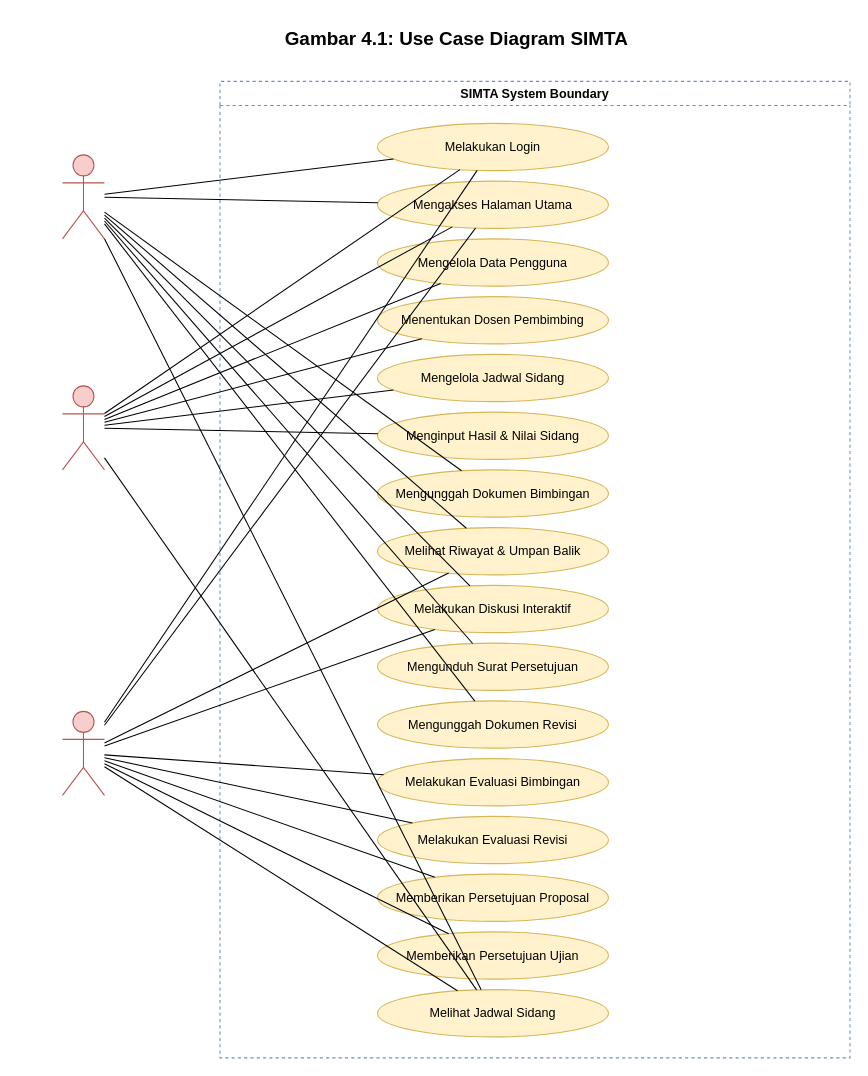
Image size: 868x1076. Some labels were removed from this diagram. The shapes that lost their labels are listed below. From the top down, each one's centre as x and y in pixels, then its label:
pixel 82 196: Mahasiswa
pixel 82 427: Admin (Koordinator)
pixel 82 752: Dosen (Pembimbing / Penguji)
